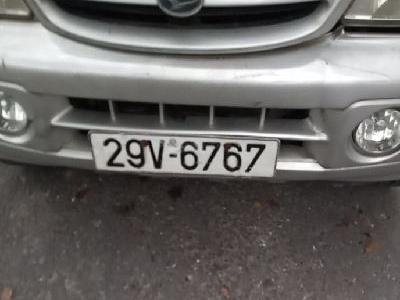lisence: (89, 130, 280, 181)
